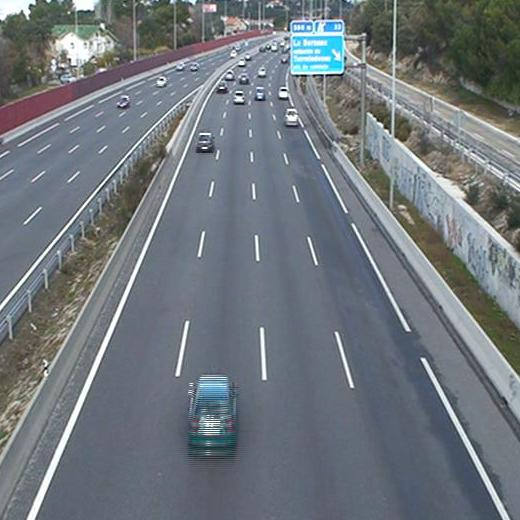car: (186, 380, 235, 450), (196, 133, 215, 152), (285, 108, 300, 126), (232, 91, 244, 104), (279, 86, 290, 100), (255, 87, 265, 100), (238, 73, 248, 85), (223, 71, 235, 81), (216, 82, 225, 92), (258, 68, 267, 77)
